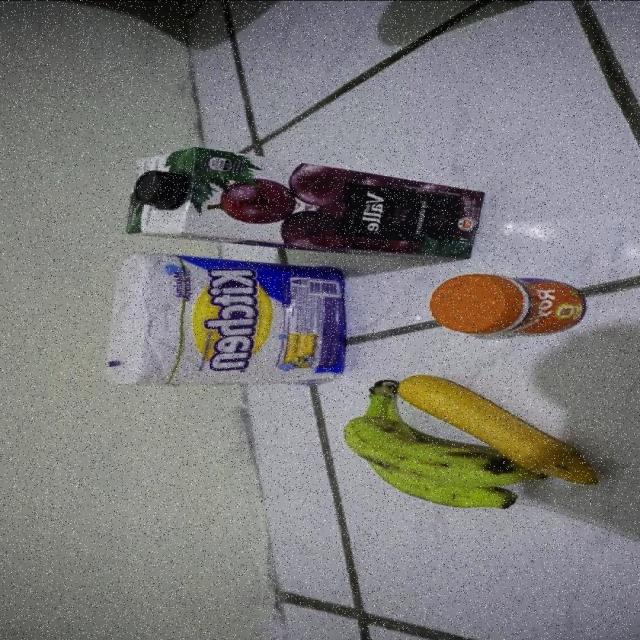Banana: (341, 378, 551, 510)
Carrot: (396, 374, 600, 487)
ChocolatePowder: (462, 0, 560, 5)
Napkin: (102, 250, 348, 390)
Yeast: (427, 272, 590, 338)
